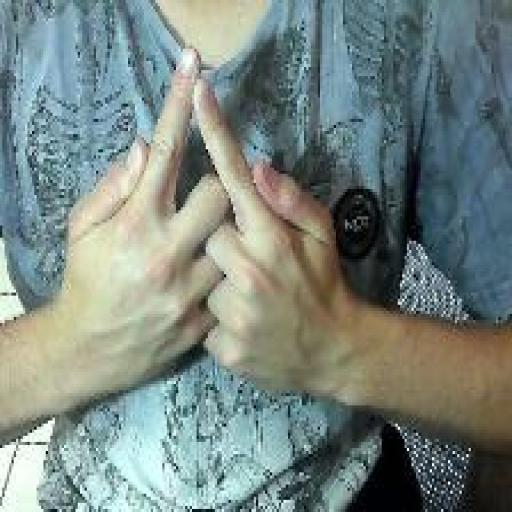Uma -horse-: (60, 41, 345, 407)
